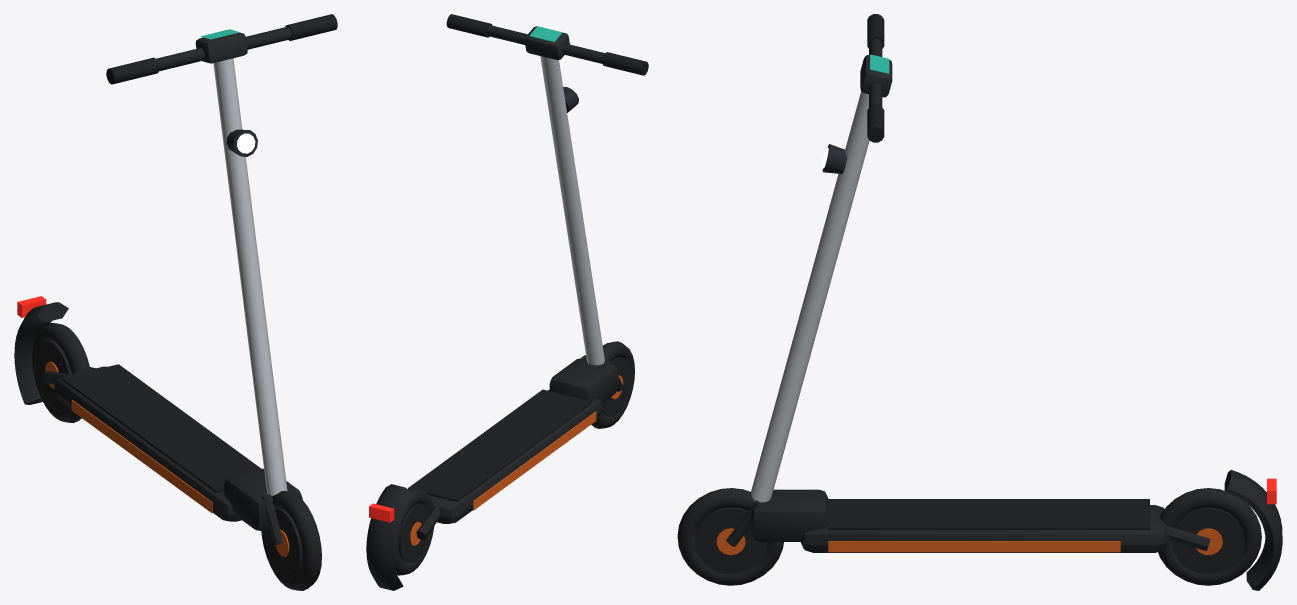
Rendered from kick-scooter.glb.
3 views of the same model, side by side, from view 1: azimuth 30°, elevation 25°; view 2: azimuth 150°, elevation 25°; view 3: azimuth 270°, elevation 25° (orthographic). The views are drawn at different scales.
Parts seen in each view (by area): view 1: Kick_Scooter, Stem, Wheel_F, Wheel_R; view 2: Kick_Scooter, Stem, Wheel_R, Wheel_F; view 3: Kick_Scooter, Stem, Wheel_R, Wheel_F.
Boxes of the visible parts, x1=… form: Kick_Scooter: x1=14, y1=296, x2=302, y2=530; Stem: x1=106, y1=14, x2=337, y2=545; Wheel_F: x1=261, y1=491, x2=321, y2=590; Wheel_R: x1=31, y1=323, x2=90, y2=423; Kick_Scooter: x1=366, y1=358, x2=618, y2=590; Stem: x1=446, y1=14, x2=648, y2=391; Wheel_R: x1=394, y1=488, x2=434, y2=575; Wheel_F: x1=591, y1=341, x2=634, y2=428; Kick_Scooter: x1=750, y1=470, x2=1282, y2=590; Stem: x1=726, y1=14, x2=892, y2=546; Wheel_R: x1=1158, y1=488, x2=1261, y2=585; Wheel_F: x1=677, y1=488, x2=783, y2=585.
Size of the model in its own units: 0.55 by 1.19 by 1.24.
